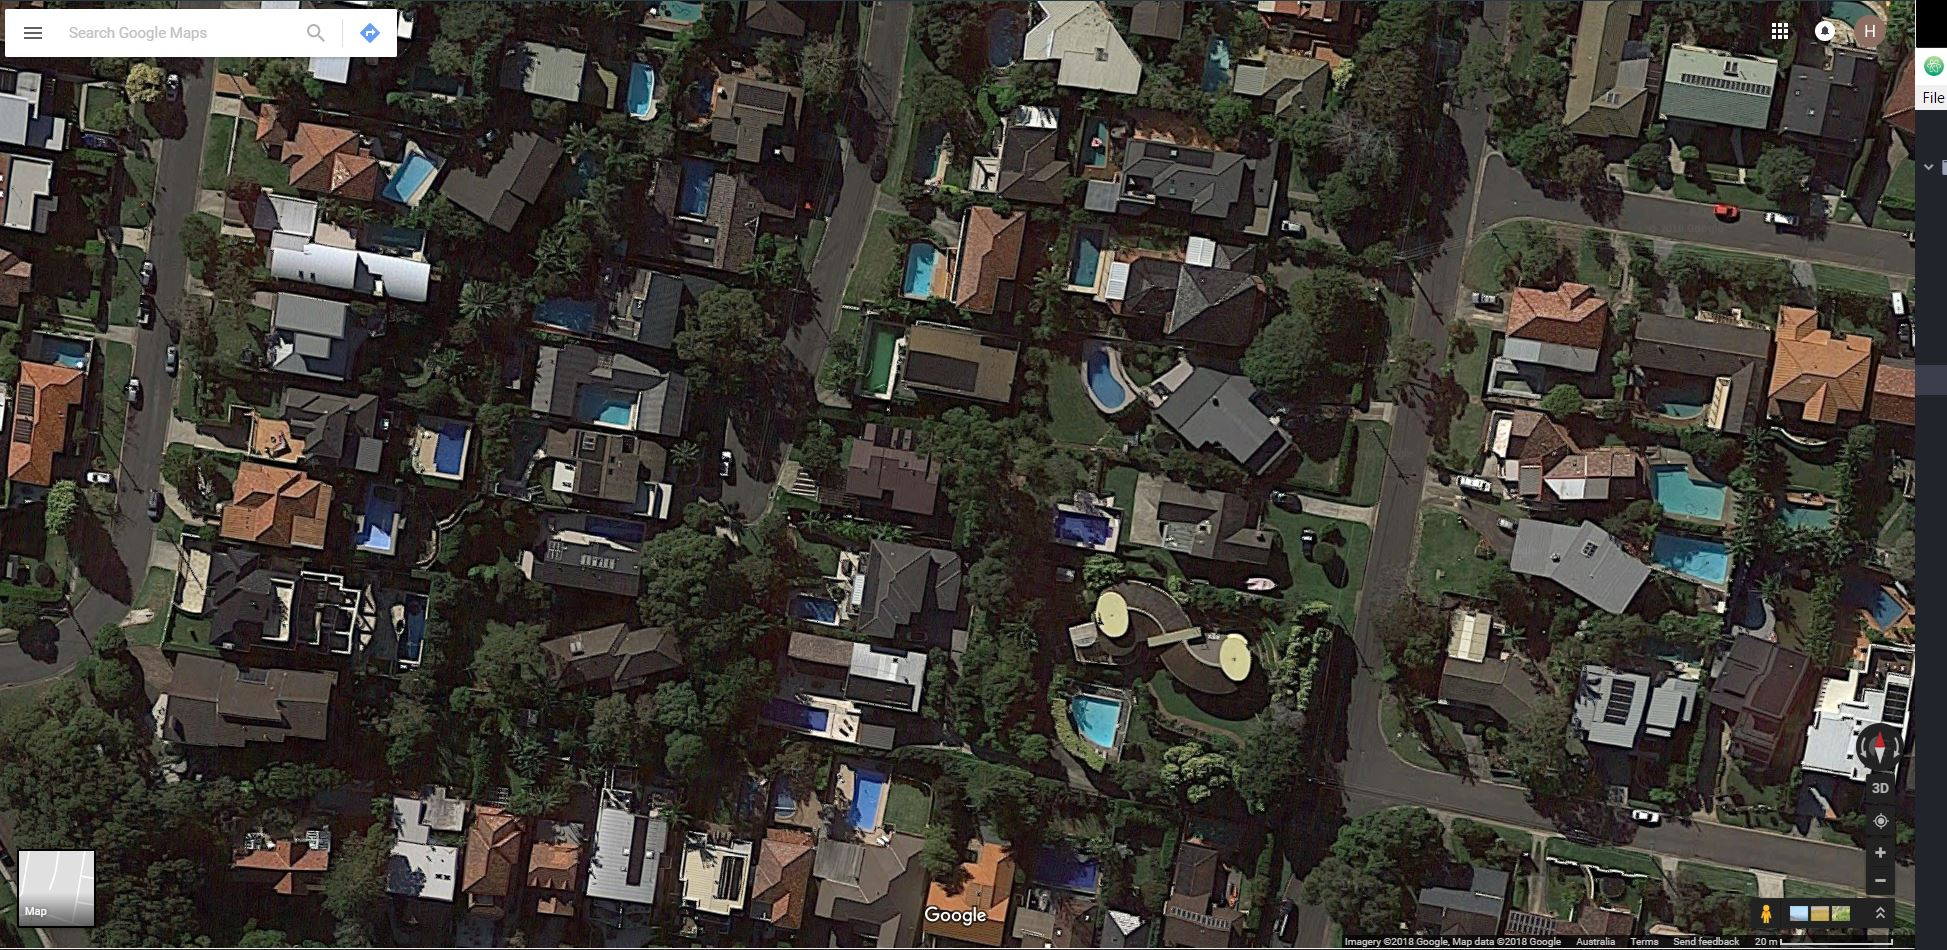pool: (1647, 459, 1735, 519), (1647, 532, 1738, 582), (1075, 342, 1139, 414), (1642, 368, 1720, 423), (1059, 688, 1127, 750), (572, 379, 644, 430), (861, 318, 906, 396), (759, 689, 838, 734), (894, 233, 941, 305), (1024, 846, 1101, 889), (1064, 222, 1110, 294), (1774, 488, 1850, 530), (1048, 503, 1118, 549), (361, 481, 405, 553), (577, 509, 649, 553), (392, 591, 435, 664), (672, 152, 716, 220), (536, 289, 602, 335), (982, 4, 1027, 70), (428, 411, 471, 479), (387, 147, 438, 202), (29, 330, 98, 369), (1072, 114, 1116, 171), (848, 767, 887, 832), (317, 782, 382, 820), (1185, 810, 1243, 851), (1863, 581, 1911, 630), (1195, 37, 1233, 94), (788, 587, 846, 625), (627, 55, 661, 115), (772, 767, 810, 816), (644, 2, 711, 27)
